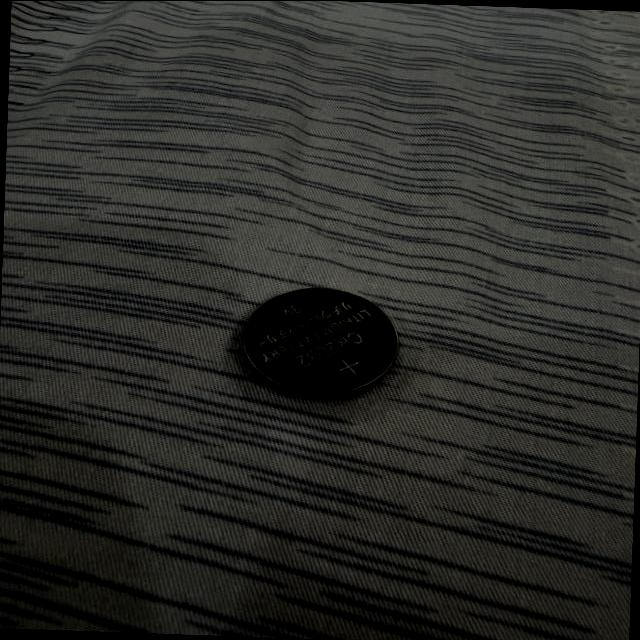COIN: (240, 282, 404, 403)
